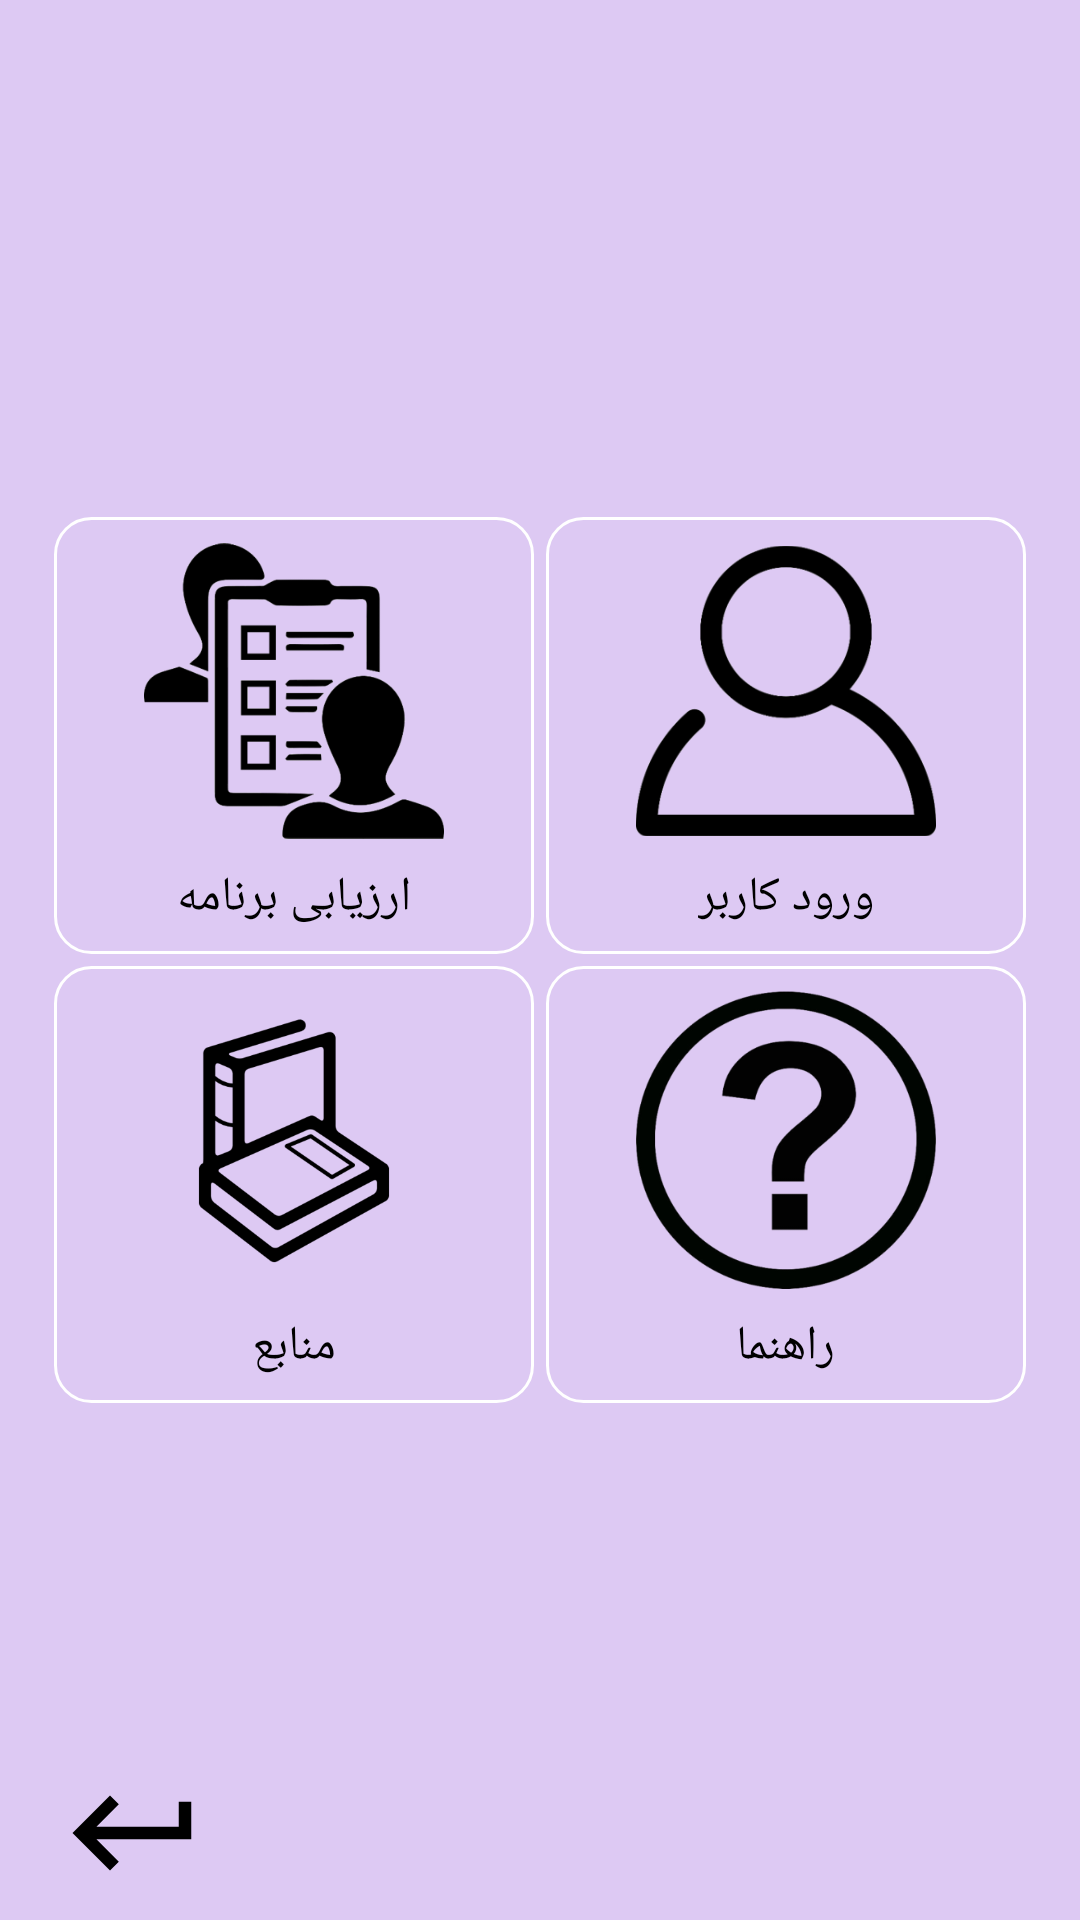

Point at icon controls on the screen. Image size 1080x1920, points as point (x, y).
keyboard return: point (132, 1833)
